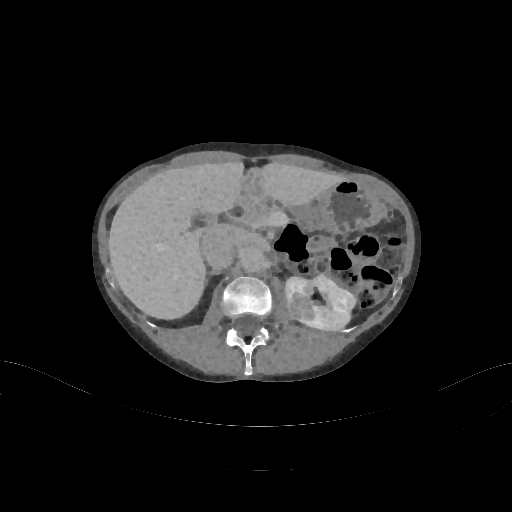Lesion: (287, 291, 317, 325)
